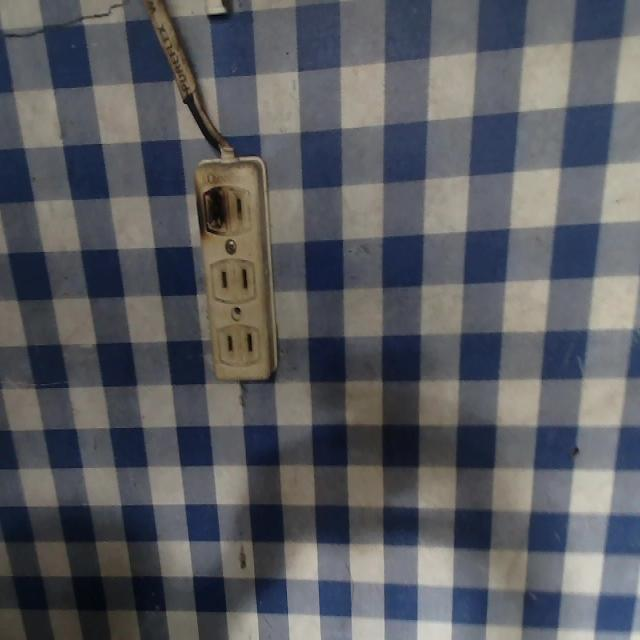-: (194, 175, 228, 237)
